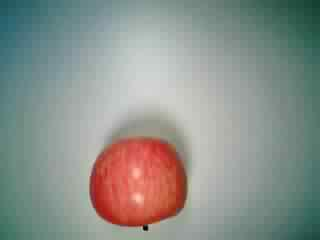apple: (88, 131, 195, 234)
